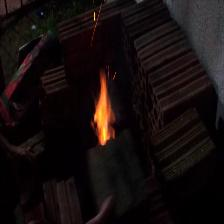fire: (91, 74, 117, 144)
